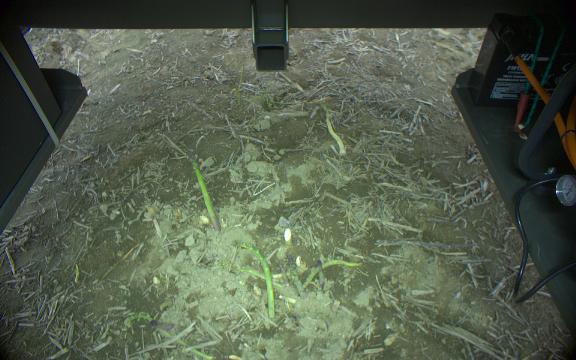aspa: (234, 240, 275, 320), (182, 149, 220, 235), (147, 319, 219, 360), (302, 259, 362, 290), (317, 102, 347, 158), (286, 253, 306, 301), (316, 259, 327, 291)
